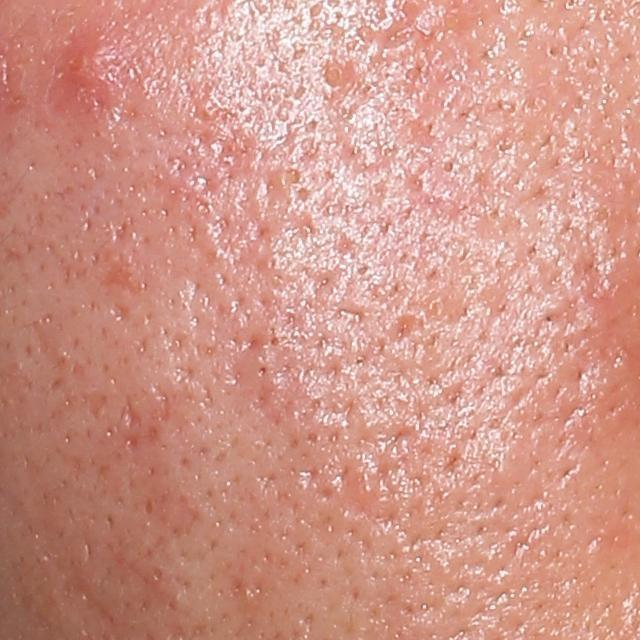atrophic_scar: (387, 308, 422, 351), (122, 395, 143, 428)
comedo: (317, 55, 348, 92)
papule: (62, 34, 115, 91)
